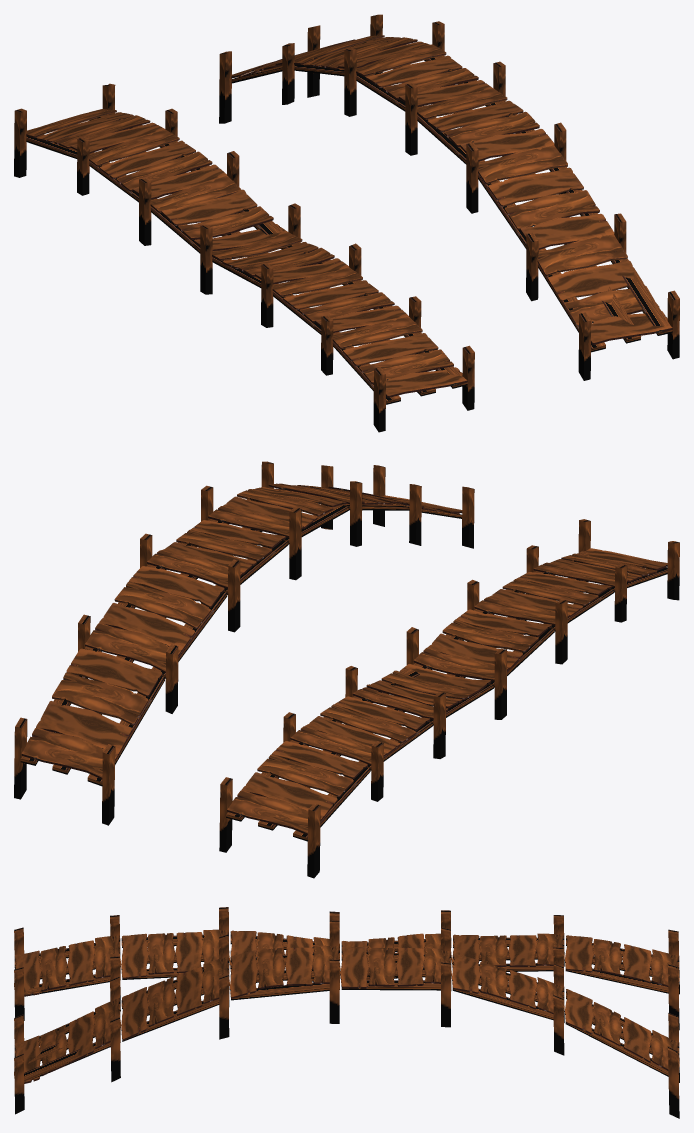
Rendered from bridge .fbx.
3 renders of one model, top to bottom at view 1: azimuth 30°, elevation 25°; view 2: azimuth 150°, elevation 25°; view 3: azimuth 270°, elevation 25°, orthographic. The views are drawn at different scales.
Visible parts, largest first — view 1: Cube.001, Cube.002; view 2: Cube.001, Cube.002; view 3: Cube.001, Cube.002.
Boxes of the visible parts, x1,y1,x2,y2 form: Cube.001: (219, 14, 679, 380); Cube.002: (14, 83, 474, 432); Cube.001: (14, 461, 474, 825); Cube.002: (219, 519, 679, 878); Cube.001: (14, 920, 679, 1118); Cube.002: (14, 907, 679, 1030).
Size of the model in its own units: 2450 by 1387 by 5145.
